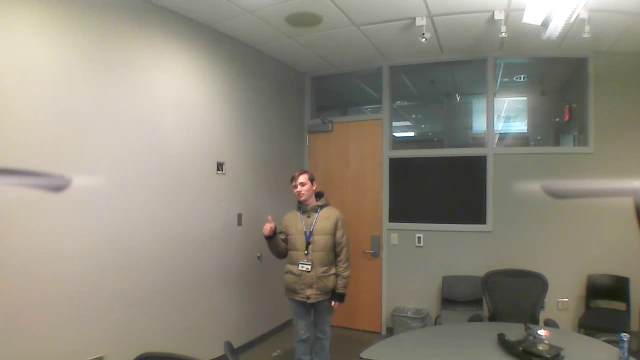up: (256, 211, 279, 240)
